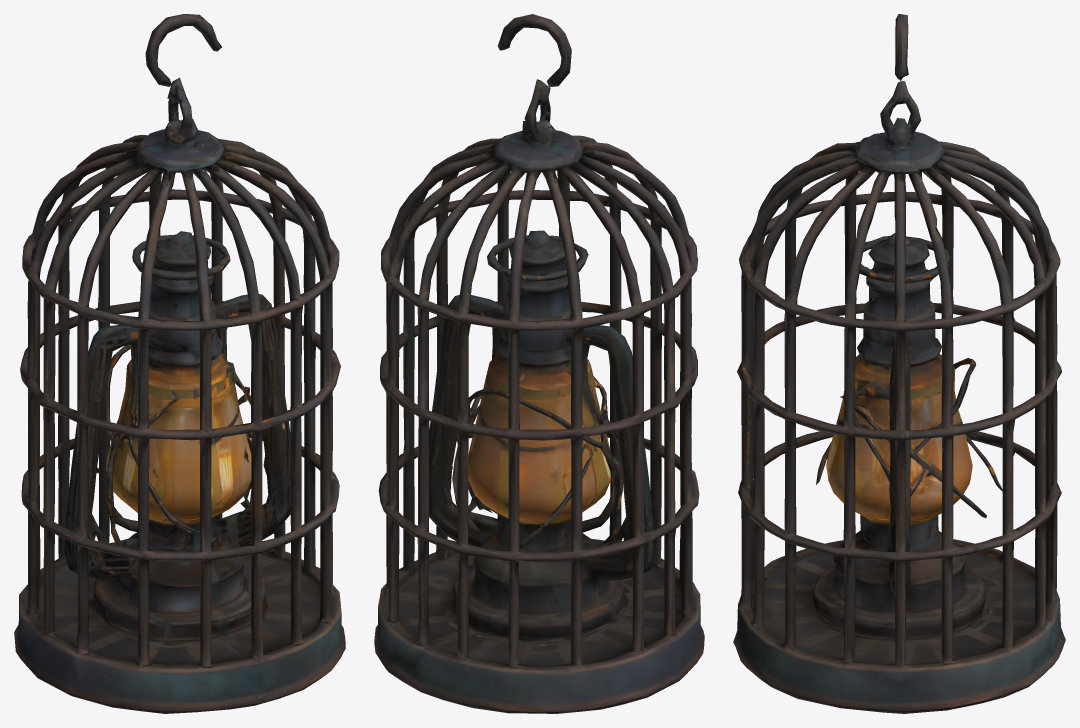
The model's file is lanterneCage.glb.
The picture shows the model from 3 angles, left to right: view 1: azimuth 30°, elevation 25°; view 2: azimuth 150°, elevation 25°; view 3: azimuth 270°, elevation 25°; orthographic projection.
Size of the model in its own units: 0.9587 by 2 by 0.9594.
Materials: 1 (1 with a texture image).
